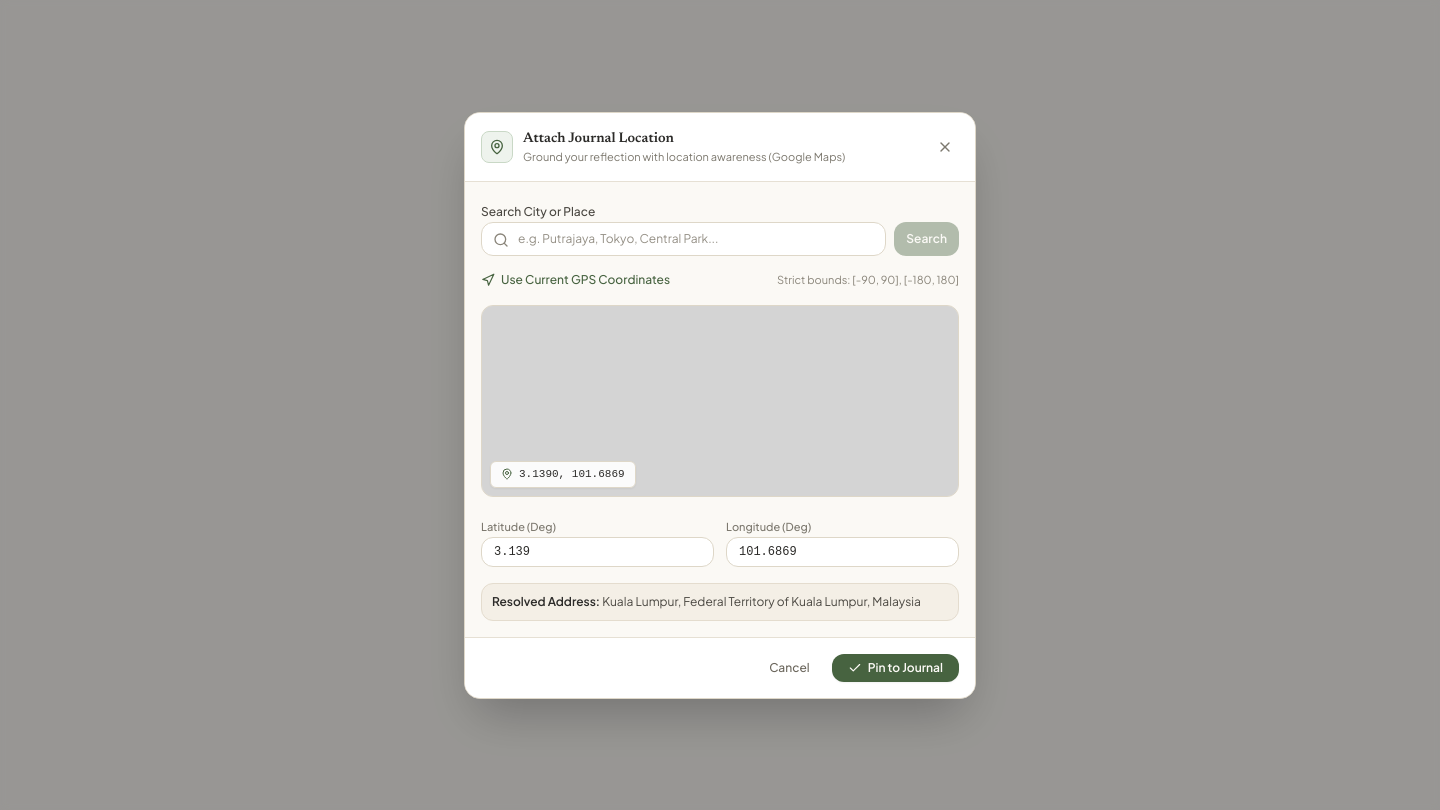
Test: LocationPickerModal › address search › geocodes the query and applies the resolved coordinates
The image size is (1440, 810).
In the field with placeholder "e.g. Putrajaya, Tokyo, Central Park...": point(684, 239) left=481, top=222, right=886, bottom=256, type "Jakarta"
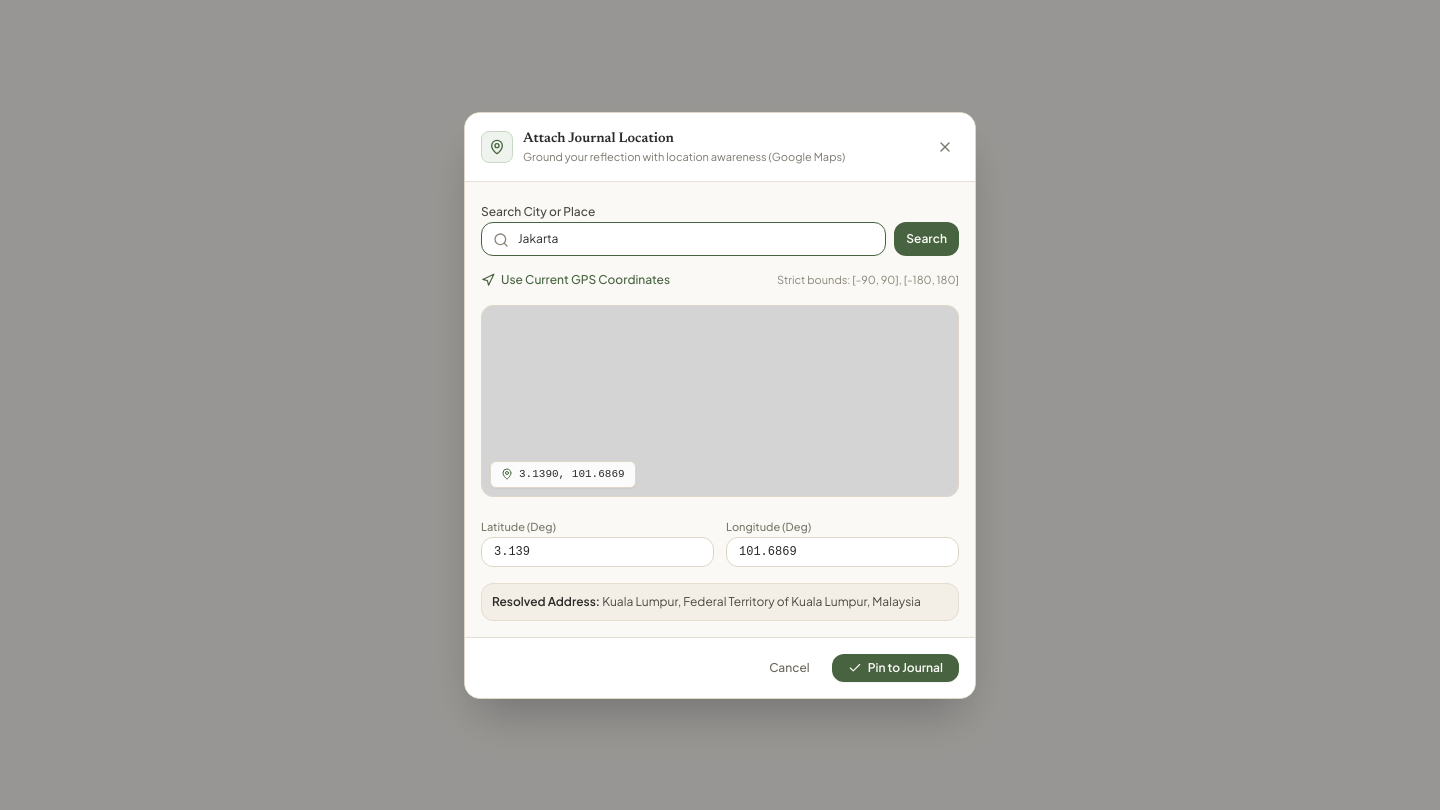
Click the button "Search": point(927, 239) left=894, top=222, right=959, bottom=256
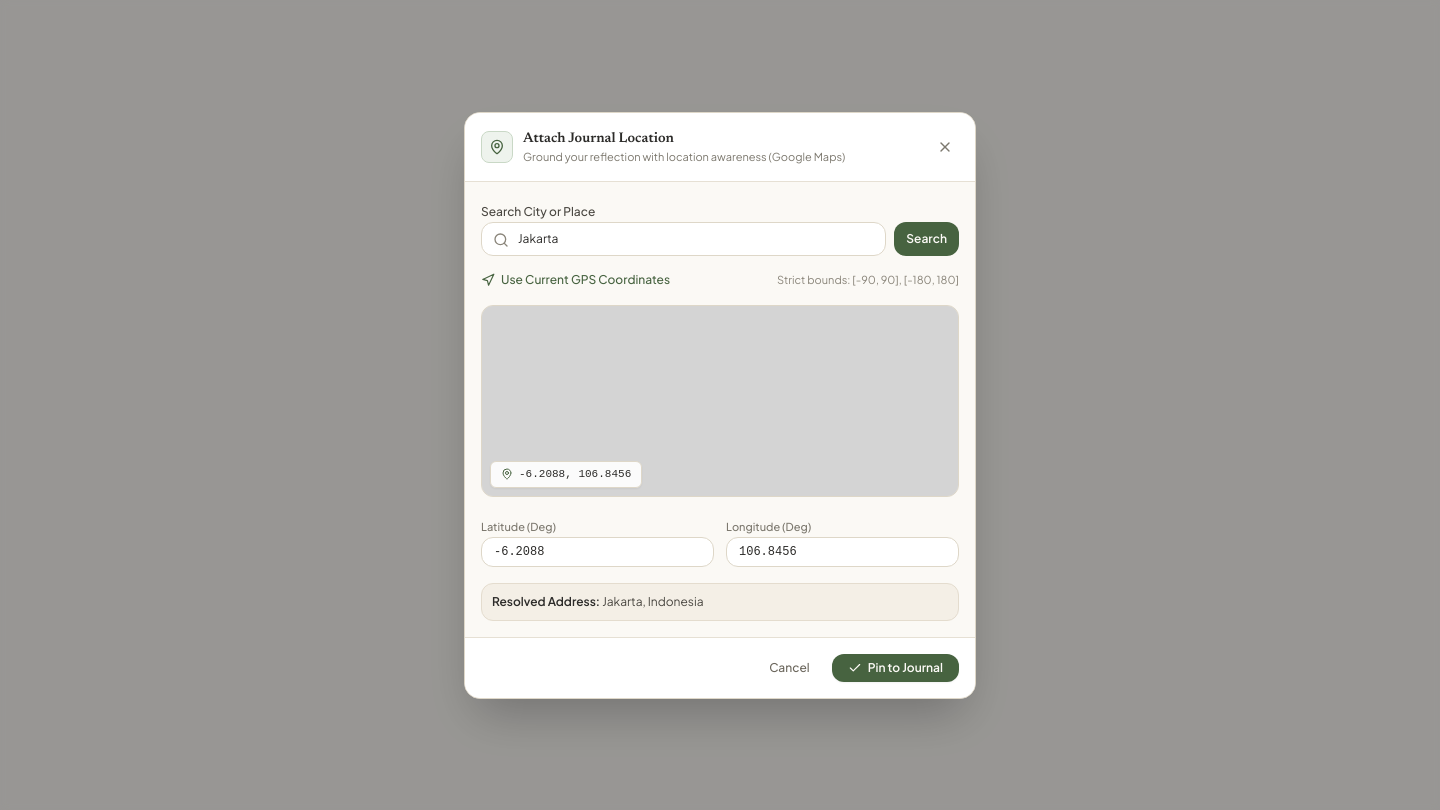
Check: the number field labelled "Latitude (Deg)" holds "-6.2088", box left=481, top=536, right=714, bottom=566
Check: the number field labelled "Longitude (Deg)" holds "106.8456", box left=726, top=536, right=959, bottom=566
Check: the text "Jakarta, Indonesia" is shown, box left=602, top=594, right=704, bottom=608
